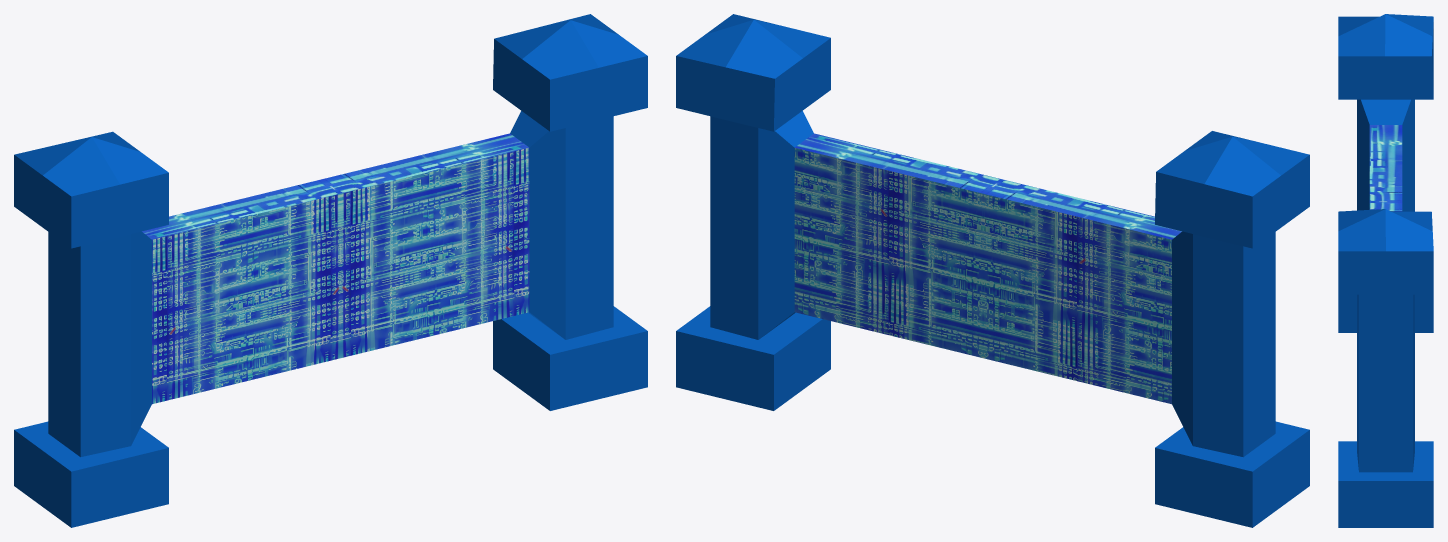
File: jumponly.fbx
The picture shows the model from 3 angles, left to right: view 1: azimuth 30°, elevation 25°; view 2: azimuth 150°, elevation 25°; view 3: azimuth 270°, elevation 25°; orthographic projection. The views are drawn at different scales.
Parts seen in each view (by area): view 1: Cube; view 2: Cube; view 3: Cube.
Part boxes in pixels (<box>): Cube: <box>14,14,647,527</box>; Cube: <box>676,14,1309,527</box>; Cube: <box>1338,14,1433,527</box>.
Size of the model in its own units: 7.11 by 1.22 by 4.22.
2 materials, 1 textured.
